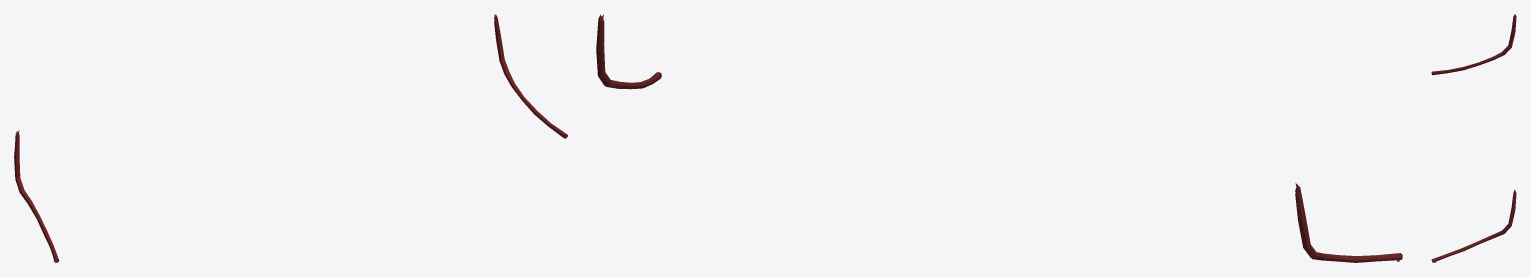
Rendered from Artéria Dorsal del Pie.FBX.
The picture shows the model from 3 angles, left to right: view 1: azimuth 30°, elevation 25°; view 2: azimuth 150°, elevation 25°; view 3: azimuth 270°, elevation 25°; orthographic projection. The views are drawn at different scales.
Parts seen in each view (by area): view 1: CS_Arterie; view 2: CS_Arterie; view 3: CS_Arterie.
Part boxes in pixels (left/top/right/bottom): CS_Arterie: left=14, top=14, right=567, bottom=262; CS_Arterie: left=596, top=14, right=1402, bottom=262; CS_Arterie: left=1431, top=14, right=1516, bottom=262.
Bounding box in the file's own units: 1250 × 207 × 238.
